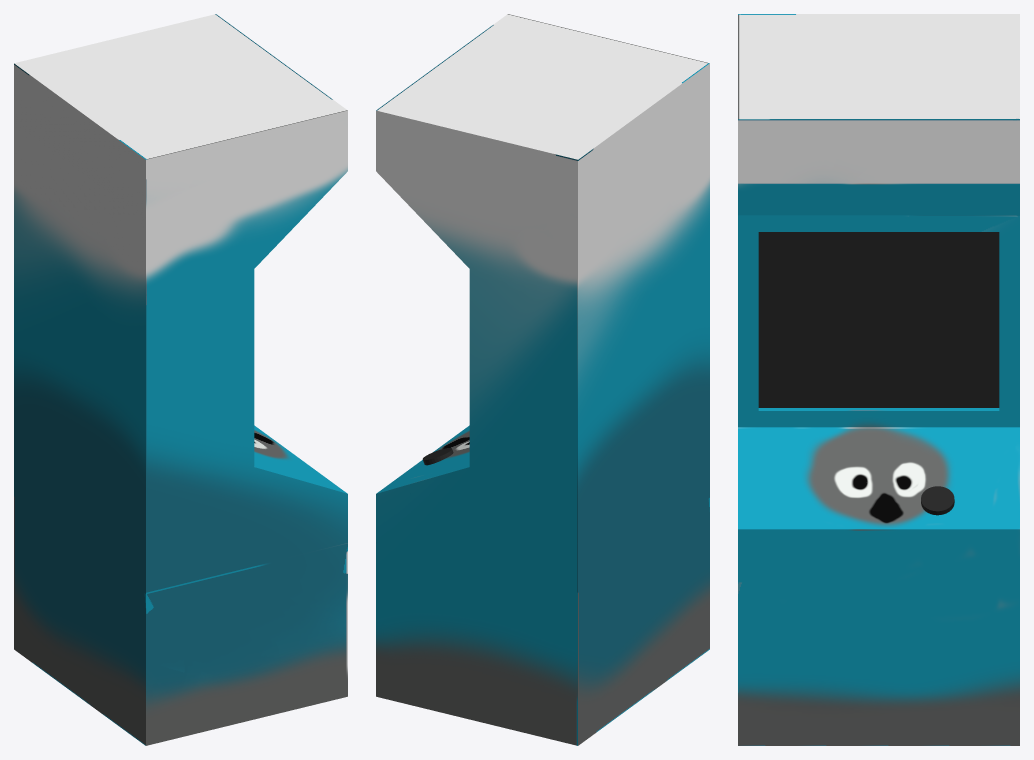
Rendered from arcade_1.glb.
3 renders of one model, left to right at view 1: azimuth 30°, elevation 25°; view 2: azimuth 150°, elevation 25°; view 3: azimuth 270°, elevation 25°, orthographic. The views are drawn at different scales.
Visible parts, largest first — view 1: Machine.001; view 2: Machine.001; view 3: Machine.001, Screen.001.
Part boxes in pixels (bbox=[...]): Machine.001: bbox=[14, 14, 347, 745]; Machine.001: bbox=[376, 14, 709, 745]; Machine.001: bbox=[738, 14, 1019, 745]; Screen.001: bbox=[758, 232, 999, 515].
Size of the model in its own units: 0.6493 by 1.8 by 0.7339.
2 materials, 1 textured.
